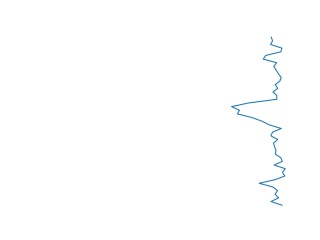interdistributaryEstuary: (227, 37, 291, 209)
